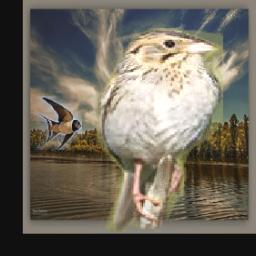Sparrow: (97, 25, 224, 232)
Swallow: (35, 96, 83, 150)
